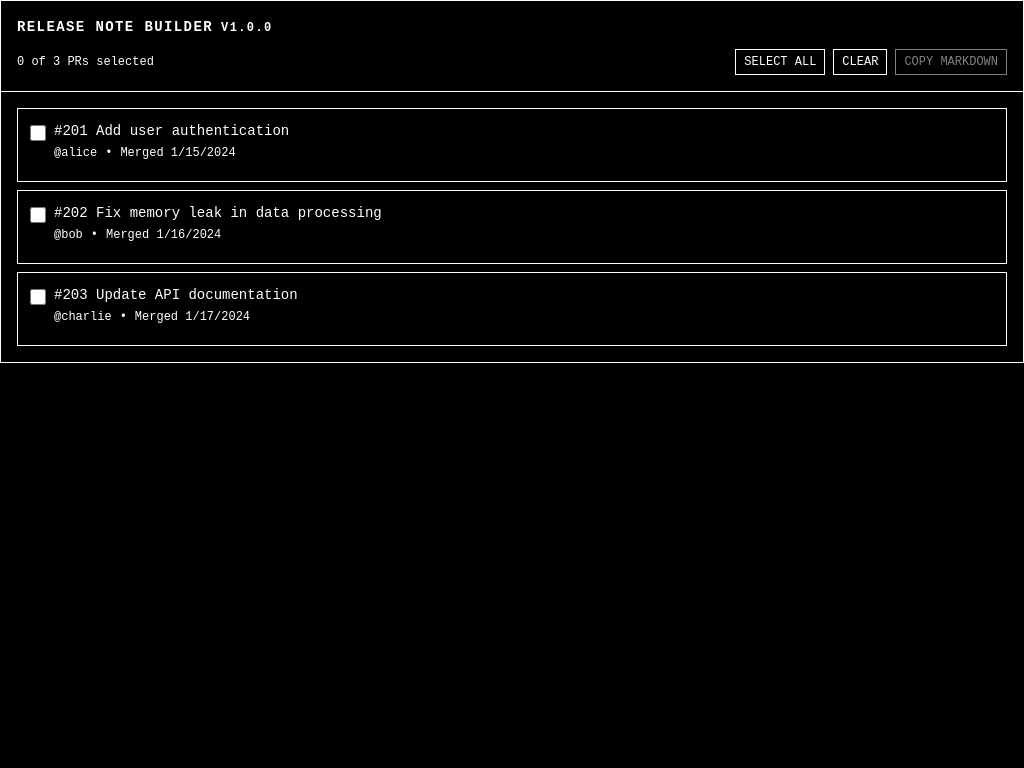
Test: ReleaseNoteBuilder › selects all PRs when Select All is clicked
This screenshot has width=1024, height=768.
Click the button "Select All". click: (780, 62)
box: [735,49,825,75]
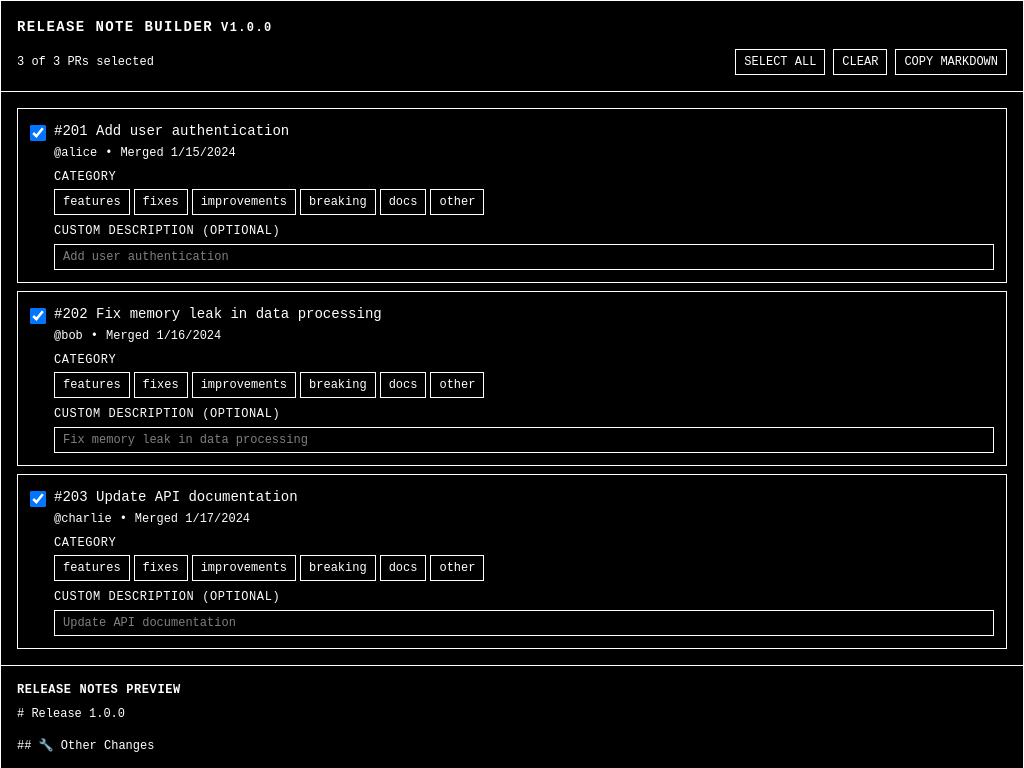
Expected: the text "3 of 3 PRs selected" is shown, [17,54,154,70]
